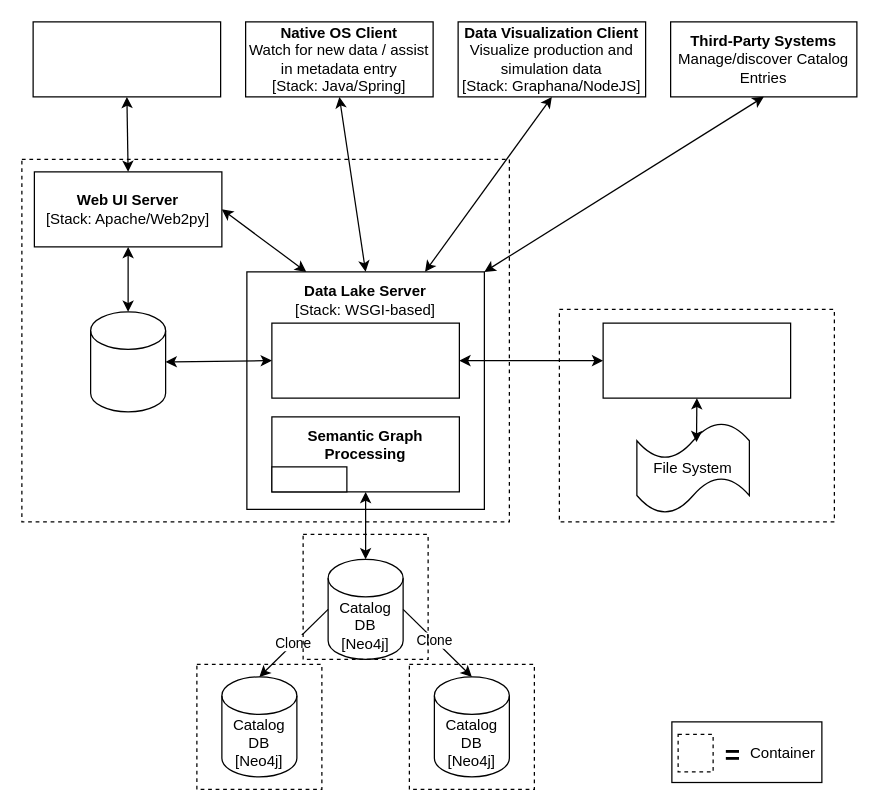
Image size: 879x811. Some labels were removed from this diagram. The shapes that lost their labels are listed below. From the top down, each one's centre as x and y in pixels, then its label:
At [126,59]: "Web Client ( Manage Catalog ) Manage/discover Catalog Entries".
At [127,361]: "User DB [MySQL]".
At [365,360]: "HTTP API [Stack: Flask/Python]".
At [696,360]: "Object (Blob) Store Server [Stack: Apache/Web2py]".
At [309,479]: "Cache".
